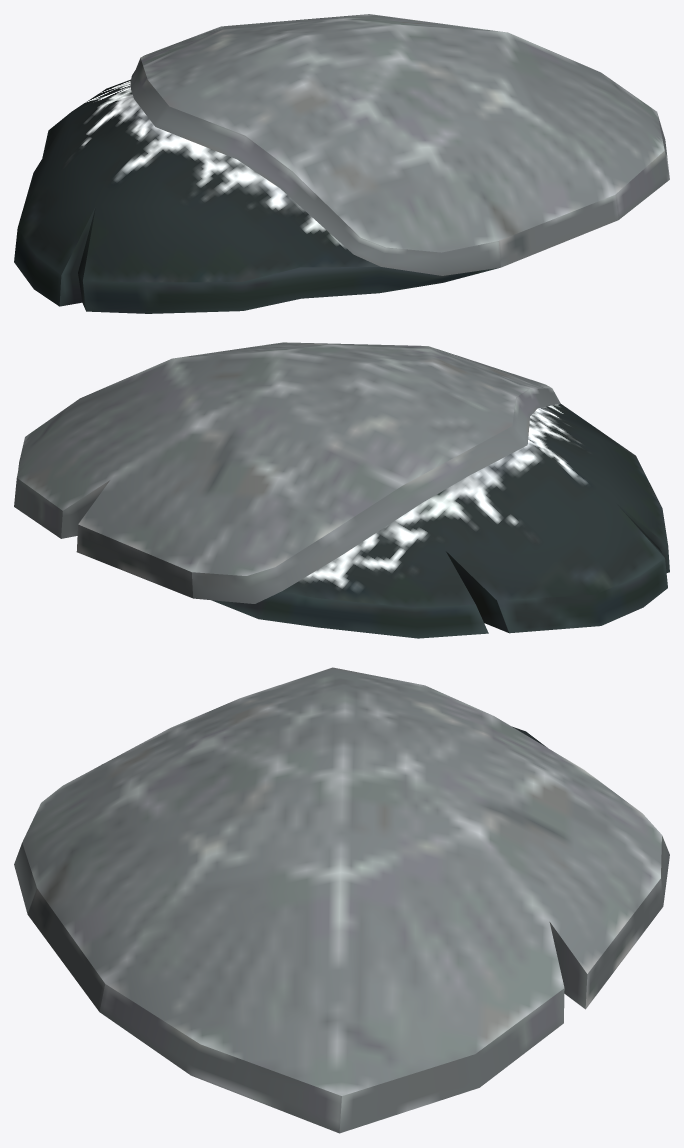
Rendered from Item_Enemy_49.glb.
3 views of the same model, one above another, from view 1: azimuth 30°, elevation 25°; view 2: azimuth 150°, elevation 25°; view 3: azimuth 270°, elevation 25° (orthographic). The views are drawn at different scales.
Visible parts, largest first — view 1: Item_Enemy_49; view 2: Item_Enemy_49; view 3: Item_Enemy_49.
Boxes of the visible parts, left/top/right/bottom form: Item_Enemy_49: left=14, top=14, right=669, bottom=313; Item_Enemy_49: left=14, top=342, right=669, bottom=638; Item_Enemy_49: left=14, top=667, right=669, bottom=1133.
Size of the model in its own units: 0.9368 by 0.2664 by 0.7214.
1 material, 1 textured.
